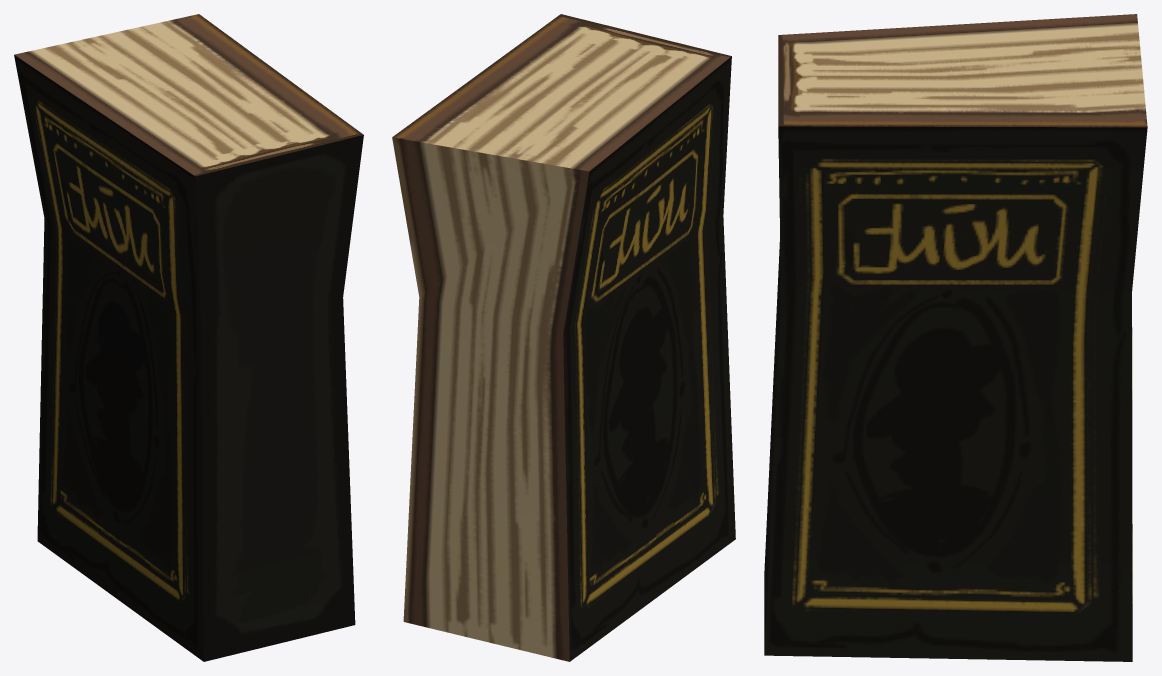
File: SM_PROP_book_dungeon_05.fbx
3 views of the same model, side by side, from view 1: azimuth 30°, elevation 25°; view 2: azimuth 150°, elevation 25°; view 3: azimuth 270°, elevation 25° (orthographic). The views are drawn at different scales.
Parts seen in each view (by area): view 1: SM_PROP_book_dungeon_05; view 2: SM_PROP_book_dungeon_05; view 3: SM_PROP_book_dungeon_05.
Boxes of the visible parts, x1,y1,x2,y2 form: SM_PROP_book_dungeon_05: [14, 14, 363, 661]; SM_PROP_book_dungeon_05: [392, 14, 735, 661]; SM_PROP_book_dungeon_05: [764, 14, 1147, 661].
Size of the model in its own units: 8.67 by 21.42 by 13.59.
